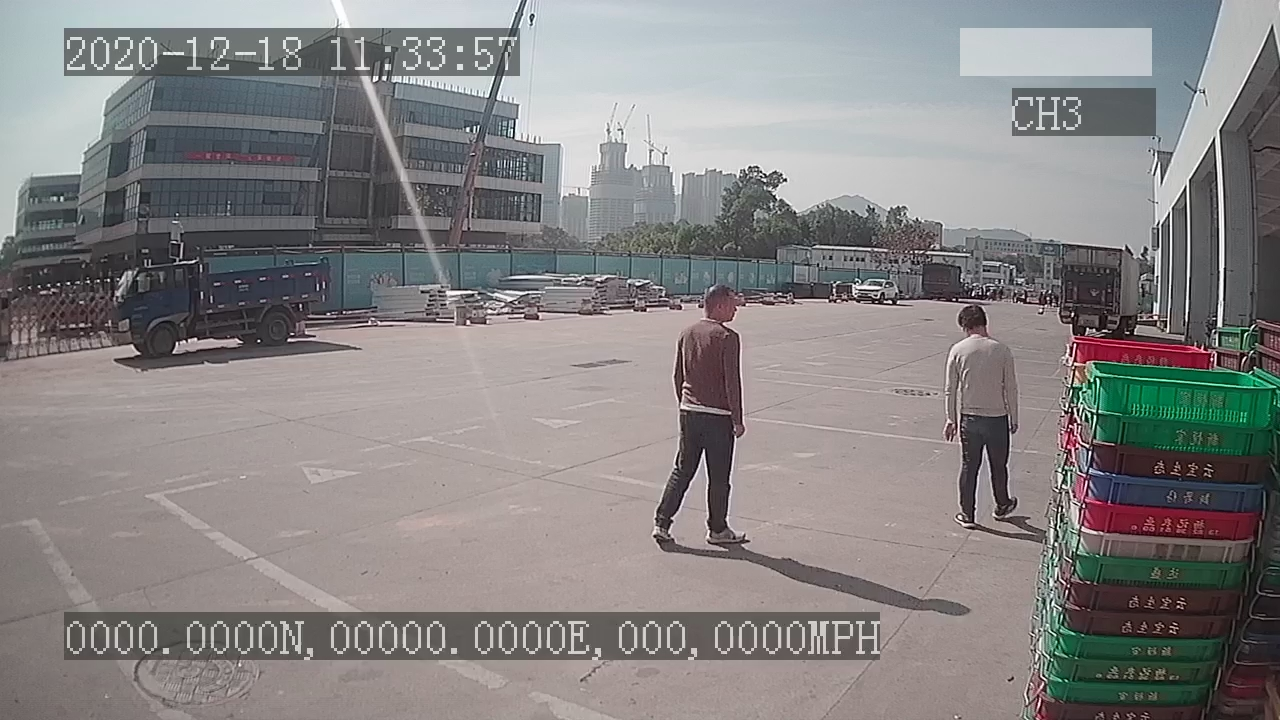person: (651, 284, 759, 548), (935, 298, 1022, 529)
